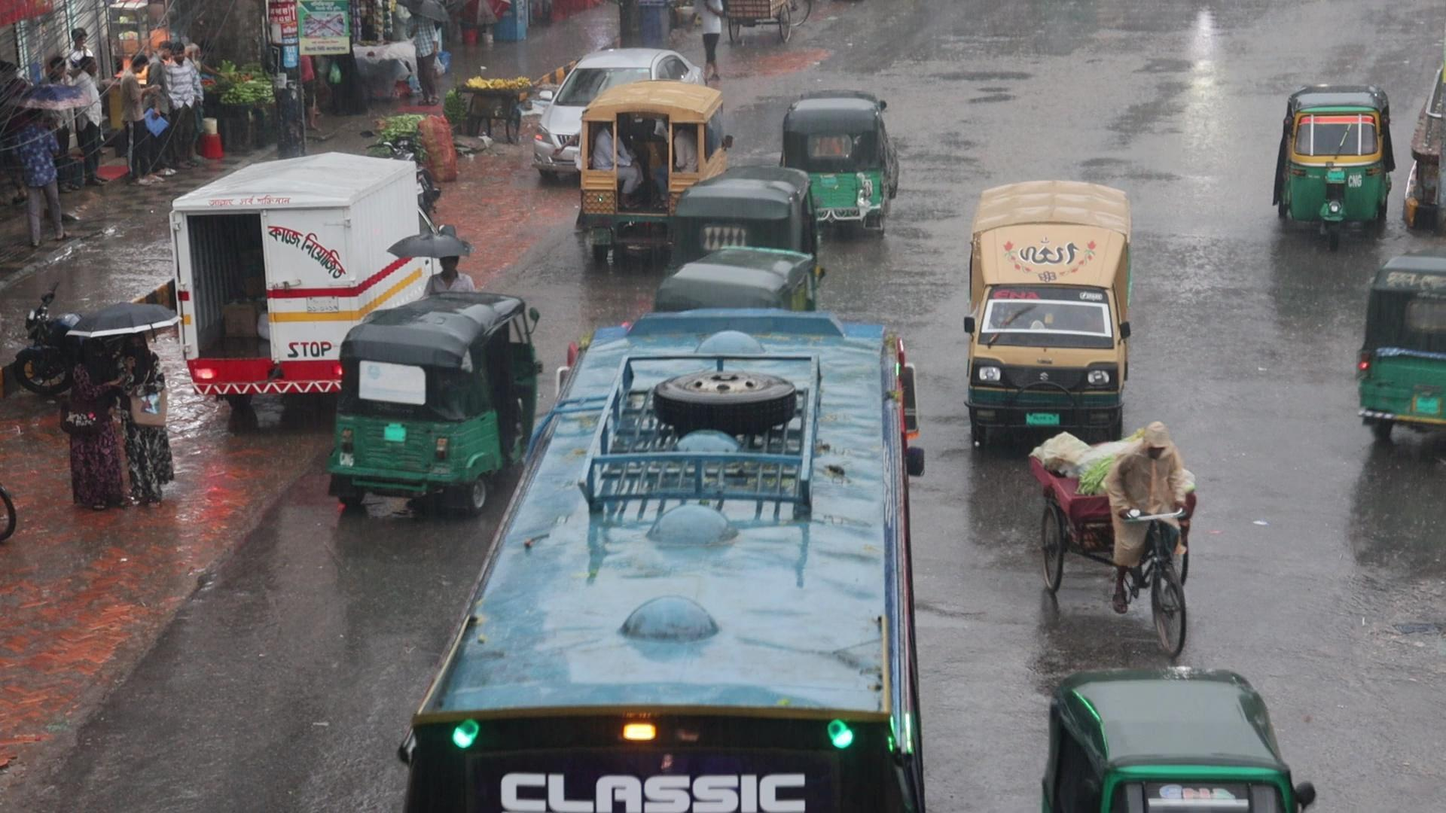Bus: (396, 309, 930, 813)
Truck: (963, 178, 1134, 439), (578, 78, 725, 252)
